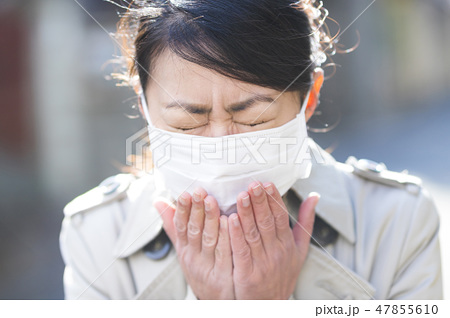mask: (148, 129, 324, 216)
